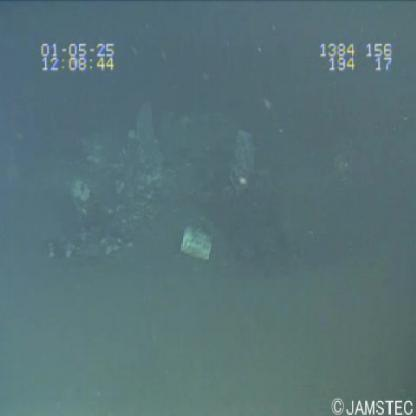Rác: (177, 220, 220, 269)
